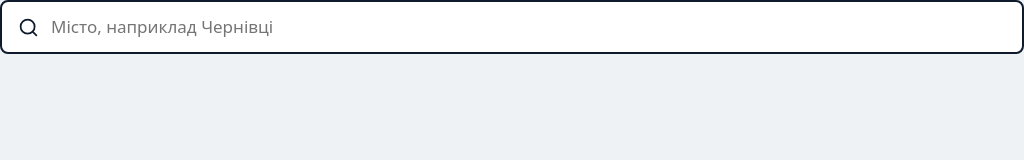
Test: CitySearch › explains an empty result and a failed search
Later steps or results of the test are not shown.
In the dropdown: (528, 27) top-left (49, 14), bottom-right (1006, 40), type "йцукен"
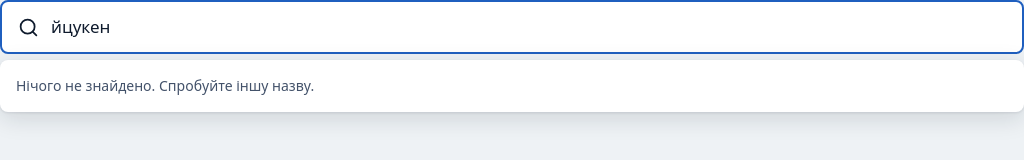
Result: the list item "Нічого не знайдено. Спробуйте іншу назву." is shown at top-left (16, 76), bottom-right (314, 95)
